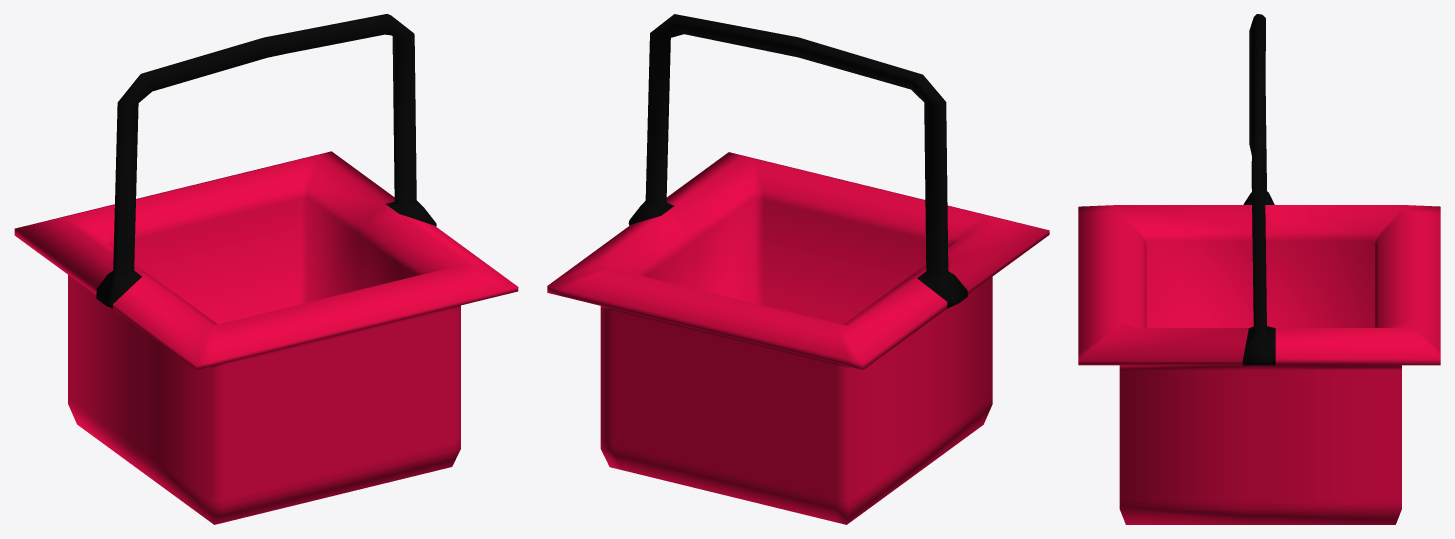
File: cestaGL.glb
3 views of the same model, side by side, from view 1: azimuth 30°, elevation 25°; view 2: azimuth 150°, elevation 25°; view 3: azimuth 270°, elevation 25° (orthographic).
Visible parts, largest first — view 1: Cesta; view 2: Cesta; view 3: Cesta.
Boxes of the visible parts, x1=… form: Cesta: x1=14, y1=14, x2=518, y2=524; Cesta: x1=547, y1=14, x2=1049, y2=524; Cesta: x1=1078, y1=14, x2=1440, y2=524.
Bounding box in the file's own units: 2.78 × 3.28 × 2.69.
